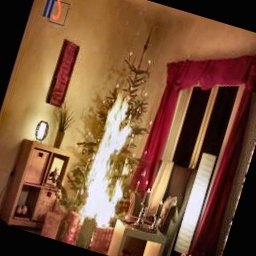fire: (67, 74, 167, 233)
